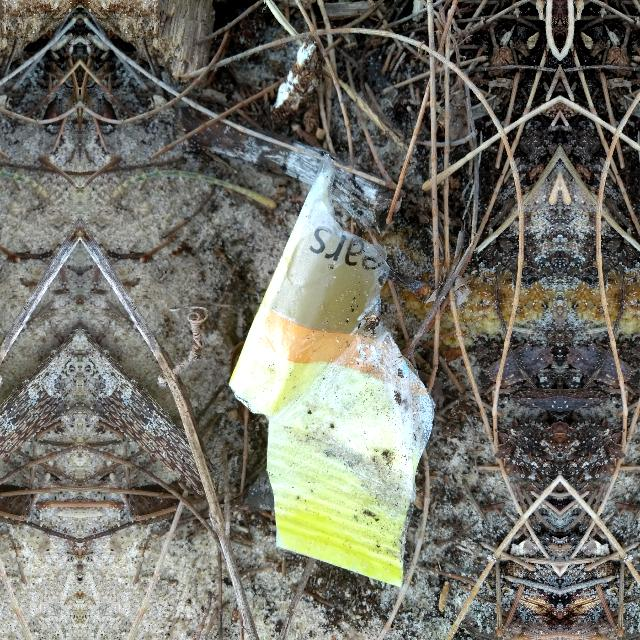Plastic: (220, 138, 434, 590)
